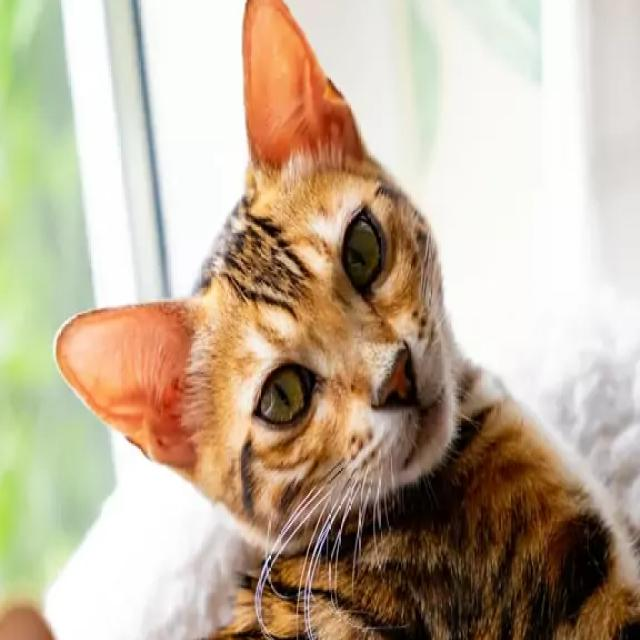Toyger: (48, 0, 640, 640)
